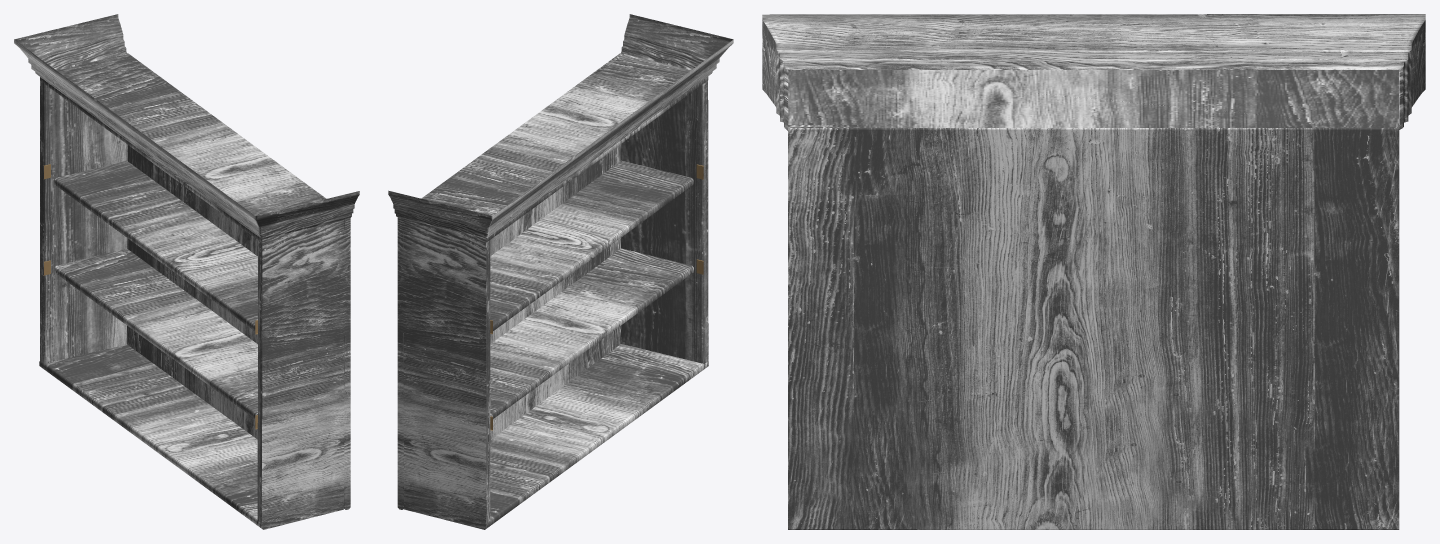
The model's file is SM_KitchenSet_B3_End.fbx.
The picture shows the model from 3 angles, left to right: view 1: azimuth 30°, elevation 25°; view 2: azimuth 150°, elevation 25°; view 3: azimuth 270°, elevation 25°; orthographic projection. The views are drawn at different scales.
Parts seen in each view (by area): view 1: SM_KitchenSet_B3_End; view 2: SM_KitchenSet_B3_End; view 3: SM_KitchenSet_B3_End.
Boxes of the visible parts, x1,y1,x2,y2 form: SM_KitchenSet_B3_End: (14, 14, 359, 529); SM_KitchenSet_B3_End: (388, 14, 733, 529); SM_KitchenSet_B3_End: (762, 14, 1425, 529).
Size of the model in its own units: 32.54 by 130 by 96.87.
Materials: 2 (2 with a texture image).
